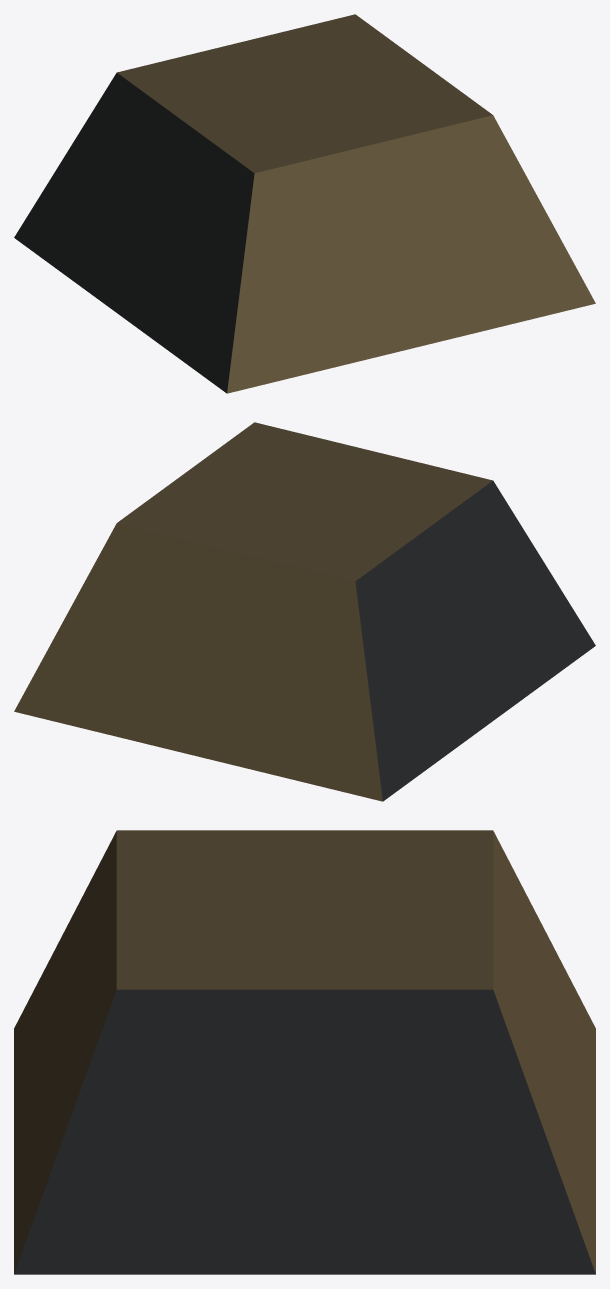
File: SM_Env_Rock_Grey_03.gltf
The picture shows the model from 3 angles, top to bottom: view 1: azimuth 30°, elevation 25°; view 2: azimuth 150°, elevation 25°; view 3: azimuth 270°, elevation 25°; orthographic projection. The views are drawn at different scales.
Visible parts, largest first — view 1: SM_Env_Rock_Grey_03; view 2: SM_Env_Rock_Grey_03; view 3: SM_Env_Rock_Grey_03.
Part boxes in pixels (x1,y1,x2,y2): SM_Env_Rock_Grey_03: [14, 14, 595, 393]; SM_Env_Rock_Grey_03: [14, 422, 595, 801]; SM_Env_Rock_Grey_03: [14, 830, 595, 1274].
Bounding box in the file's own units: 0.754 × 0.3455 × 0.754.
1 material, 1 textured.
